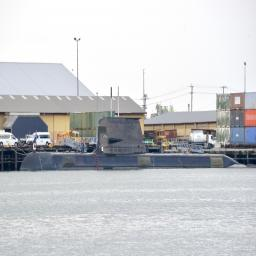submarine: (21, 118, 240, 173)
